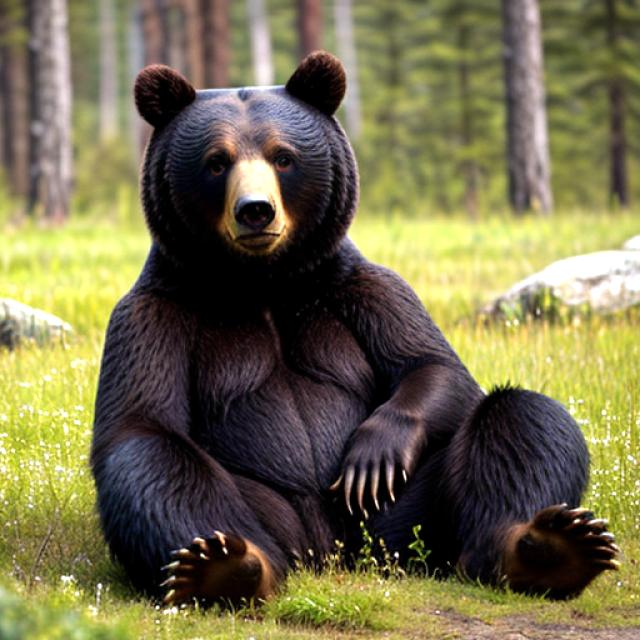bear: (79, 37, 627, 623)
